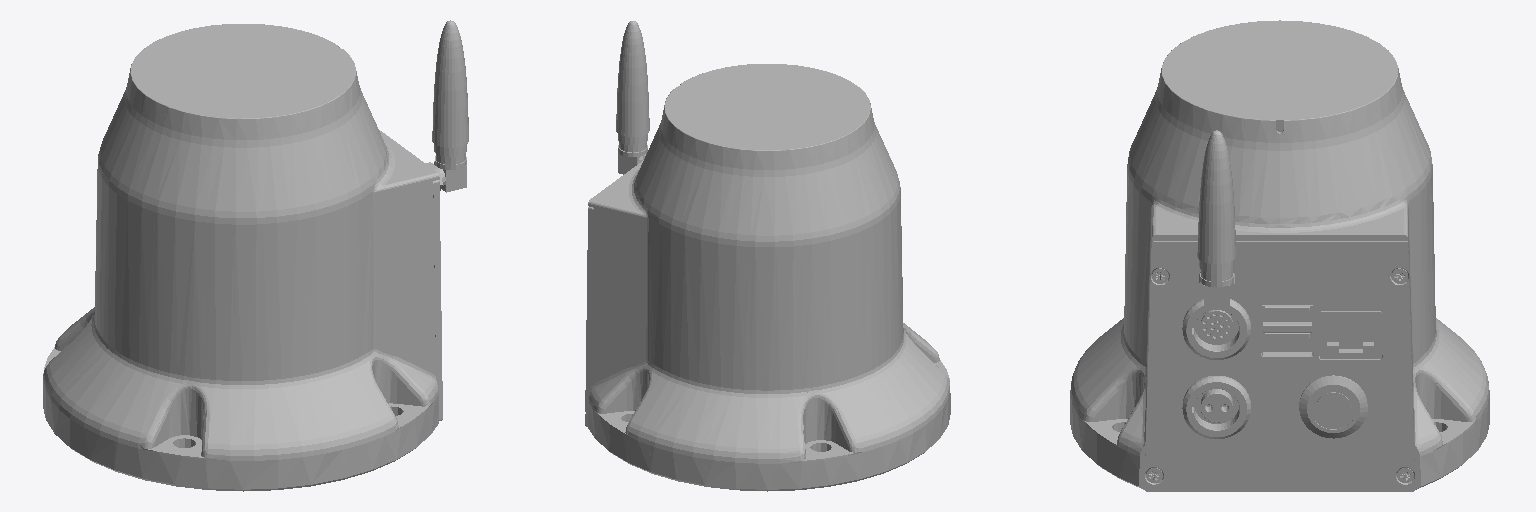
URDF robot description (RM75-6F):
<?xml version="1.0" encoding="utf-8"?>
<!-- This URDF was automatically created by SolidWorks to URDF Exporter! Originally created by [author] ([email redacted]) 
     Commit Version: 1.6.0-1-g15f4949  Build Version: 1.6.7594.29634
     For more information, please see http://wiki.ros.org/sw_urdf_exporter -->
<robot
  name="RM75-6F">
  <link
    name="base_link">
    <inertial>
      <origin
        xyz="-0.000498402948737627 -5.19350130879295E-05 0.0600202841401173"
        rpy="0 0 0" />
      <mass
        value="0.838885280844642" />
      <inertia
        ixx="0.00172321229512273"
        ixy="3.09076921222708E-06"
        ixz="-3.79221267118485E-05"
        iyy="0.00170514762450234"
        iyz="1.38793623479001E-06"
        izz="0.00090158903044651" />
    </inertial>
    <visual>
      <origin
        xyz="0 0 0"
        rpy="0 0 0" />
      <geometry>
        <mesh
          filename="package://rm_description/meshes/RM75_Test/base_link.STL" />
      </geometry>
      <material
        name="">
        <color
          rgba="0.752941176470588 0.752941176470588 0.752941176470588 1" />
      </material>
    </visual>
    <collision>
      <origin
        xyz="0 0 0"
        rpy="0 0 0" />
      <geometry>
        <mesh
          filename="package://rm_description/meshes/RM75_Test/base_link.STL" />
      </geometry>
    </collision>
  </link>
  <link
    name="Link_1">
    <inertial>
      <origin
        xyz="-2.05546069214312E-07 0.0211077047188954 -0.0251861970792274"
        rpy="0 0 0" />
      <mass
        value="0.593542243994357" />
      <inertia
        ixx="0.00126611498055767"
        ixy="-5.09885204907223E-09"
        ixz="-6.36116302372432E-09"
        iyy="0.00118165919048932"
        iyz="-0.000211204511668188"
        izz="0.000561320297380402" />
    </inertial>
    <visual>
      <origin
        xyz="0 0 0"
        rpy="0 0 0" />
      <geometry>
        <mesh
          filename="package://rm_description/meshes/RM75_Test/Link_1.STL" />
      </geometry>
      <material
        name="">
        <color
          rgba="0.752941176470588 0.752941176470588 0.752941176470588 1" />
      </material>
    </visual>
    <collision>
      <origin
        xyz="0 0 0"
        rpy="0 0 0" />
      <geometry>
        <mesh
          filename="package://rm_description/meshes/RM75_Test/Link_1.STL" />
      </geometry>
    </collision>
  </link>
  <joint
    name="joint_1"
    type="revolute">
    <origin
      xyz="0 0 0.2405"
      rpy="0 0 0" />
    <parent
      link="base_link" />
    <child
      link="Link_1" />
    <axis
      xyz="0 0 -1" />
    <limit
      lower="-3.105"
      upper="3.105"
      effort="60"
      velocity="3.14" />
  </joint>
  <link
    name="Link_2">
    <inertial>
      <origin
        xyz="0.0761298838635414 8.13412421487738E-08 0.0110777211746168"
        rpy="0 0 0" />
      <mass
        value="0.432849544766671" />
      <inertia
        ixx="0.000317471563497456"
        ixy="-1.26467480084691E-09"
        ixz="0.000279001865925355"
        iyy="0.00125837650082301"
        iyz="6.18873935094668E-09"
        izz="0.00122244754668097" />
    </inertial>
    <visual>
      <origin
        xyz="0 0 0"
        rpy="0 0 0" />
      <geometry>
        <mesh
          filename="package://rm_description/meshes/RM75_Test/Link_2.STL" />
      </geometry>
      <material
        name="">
        <color
          rgba="0.752941176470588 0.752941176470588 0.752941176470588 1" />
      </material>
    </visual>
    <collision>
      <origin
        xyz="0 0 0"
        rpy="0 0 0" />
      <geometry>
        <mesh
          filename="package://rm_description/meshes/RM75_Test/Link_2.STL" />
      </geometry>
    </collision>
  </link>
  <joint
    name="joint_2"
    type="revolute">
    <origin
      xyz="0 0 0"
      rpy="1.5708 -1.5708 0" />
    <parent
      link="Link_1" />
    <child
      link="Link_2" />
    <axis
      xyz="0 0 1" />
    <limit
      lower="-2.269"
      upper="2.269"
      effort="60"
      velocity="3.14" />
  </joint>
  <link
    name="Link_3">
    <inertial>
      <origin
        xyz="-9.34564886745072E-07 0.0235439812552188 -0.0273474841772198"
        rpy="0 0 0" />
      <mass
        value="0.431326296657269" />
      <inertia
        ixx="0.000794346293776048"
        ixy="-2.46594666817218E-09"
        ixz="1.38182845522538E-08"
        iyy="0.000730368377150695"
        iyz="-0.00014262661201261"
        izz="0.000315064686122022" />
    </inertial>
    <visual>
      <origin
        xyz="0 0 0"
        rpy="0 0 0" />
      <geometry>
        <mesh
          filename="package://rm_description/meshes/RM75_Test/Link_3.STL" />
      </geometry>
      <material
        name="">
        <color
          rgba="0.752941176470588 0.752941176470588 0.752941176470588 1" />
      </material>
    </visual>
    <collision>
      <origin
        xyz="0 0 0"
        rpy="0 0 0" />
      <geometry>
        <mesh
          filename="package://rm_description/meshes/RM75_Test/Link_3.STL" />
      </geometry>
    </collision>
  </link>
  <joint
    name="joint_3"
    type="revolute">
    <origin
      xyz="0.256 0 0"
      rpy="-1.5708 0 -1.5708" />
    <parent
      link="Link_2" />
    <child
      link="Link_3" />
    <axis
      xyz="0 0 -1" />
    <limit
      lower="-3.105"
      upper="3.105"
      effort="30"
      velocity="3.14" />
  </joint>
  <link
    name="Link_4">
    <inertial>
      <origin
        xyz="4.51888977543724E-06 -0.0595928813069476 0.010569042108418"
        rpy="0 0 0" />
      <mass
        value="0.289643824188822" />
      <inertia
        ixx="0.000637363594056505"
        ixy="-5.7485480442054E-08"
        ixz="-3.30883600819094E-08"
        iyy="0.000156488204970793"
        iyz="-0.000144608155464803"
        izz="0.000614175002842777" />
    </inertial>
    <visual>
      <origin
        xyz="0 0 0"
        rpy="0 0 0" />
      <geometry>
        <mesh
          filename="package://rm_description/meshes/RM75_Test/Link_4.STL" />
      </geometry>
      <material
        name="">
        <color
          rgba="0.752941176470588 0.752941176470588 0.752941176470588 1" />
      </material>
    </visual>
    <collision>
      <origin
        xyz="0 0 0"
        rpy="0 0 0" />
      <geometry>
        <mesh
          filename="package://rm_description/meshes/RM75_Test/Link_4.STL" />
      </geometry>
    </collision>
  </link>
  <joint
    name="joint_4"
    type="revolute">
    <origin
      xyz="0 0 0"
      rpy="-1.5708 0 -3.1416" />
    <parent
      link="Link_3" />
    <child
      link="Link_4" />
    <axis
      xyz="0 0 1" />
    <limit
      lower="-2.356"
      upper="2.356"
      effort="30"
      velocity="3.14" />
  </joint>
  <link
    name="Link_5">
    <inertial>
      <origin
        xyz="1.32071622473073E-06 -0.0180437560522369 -0.0215381587841798"
        rpy="0 0 0" />
      <mass
        value="0.239430992940448" />
      <inertia
        ixx="0.00028594979957681"
        ixy="-2.14337423072125E-09"
        ixz="1.40294693820937E-09"
        iyy="0.000262735545580892"
        iyz="4.4240809689715E-05"
        izz="0.000119899058385996" />
    </inertial>
    <visual>
      <origin
        xyz="0 0 0"
        rpy="0 0 0" />
      <geometry>
        <mesh
          filename="package://rm_description/meshes/RM75_Test/Link_5.STL" />
      </geometry>
      <material
        name="">
        <color
          rgba="0.752941176470588 0.752941176470588 0.752941176470588 1" />
      </material>
    </visual>
    <collision>
      <origin
        xyz="0 0 0"
        rpy="0 0 0" />
      <geometry>
        <mesh
          filename="package://rm_description/meshes/RM75_Test/Link_5.STL" />
      </geometry>
    </collision>
  </link>
  <joint
    name="joint_5"
    type="revolute">
    <origin
      xyz="0 -0.21 0"
      rpy="1.5708 0 0" />
    <parent
      link="Link_4" />
    <child
      link="Link_5" />
    <axis
      xyz="0 0 -1" />
    <limit
      lower="-3.105"
      upper="3.105"
      effort="10"
      velocity="3.14" />
  </joint>
  <link
    name="Link_6">
    <inertial>
      <origin
        xyz="4.23948957018817E-06 -0.0593817487603215 0.00736779587750847"
        rpy="0 0 0" />
      <mass
        value="0.21879527056675" />
      <inertia
        ixx="0.00035053124249399"
        ixy="-3.1129705163603E-08"
        ixz="-1.70875238293734E-08"
        iyy="0.00010492541026997"
        iyz="-7.82406705228082E-05"
        izz="0.000334471302428861" />
    </inertial>
    <visual>
      <origin
        xyz="0 0 0"
        rpy="0 0 0" />
      <geometry>
        <mesh
          filename="package://rm_description/meshes/RM75_Test/Link_6.STL" />
      </geometry>
      <material
        name="">
        <color
          rgba="0.752941176470588 0.752941176470588 0.752941176470588 1" />
      </material>
    </visual>
    <collision>
      <origin
        xyz="0 0 0"
        rpy="0 0 0" />
      <geometry>
        <mesh
          filename="package://rm_description/meshes/RM75_Test/Link_6.STL" />
      </geometry>
    </collision>
  </link>
  <joint
    name="joint_6"
    type="revolute">
    <origin
      xyz="0 0 0"
      rpy="-1.5708 0 0" />
    <parent
      link="Link_5" />
    <child
      link="Link_6" />
    <axis
      xyz="0 0 1" />
    <limit
      lower="-2.234"
      upper="2.234"
      effort="10"
      velocity="3.14" />
  </joint>
  <link
    name="Link7">
    <inertial>
      <origin
        xyz="0.00013855998817792 -0.00574537419214985 -0.535986173378068"
        rpy="0 0 0" />
      <mass
        value="3.04449097310784" />
      <inertia
        ixx="0.17081032825412"
        ixy="5.38227954656055E-07"
        ixz="0.000151207463266663"
        iyy="0.169967421488281"
        iyz="0.0010577717307003"
        izz="0.0030554606628762" />
    </inertial>
    <visual>
      <origin
        xyz="0 0 0"
        rpy="0 0 0" />
      <geometry>
        <mesh
          filename="package://rm_description/meshes/RM75_Test/Link7.STL" />
      </geometry>
      <material
        name="">
        <color
          rgba="0.792156862745098 0.819607843137255 0.933333333333333 1" />
      </material>
    </visual>
    <collision>
      <origin
        xyz="0 0 0"
        rpy="0 0 0" />
      <geometry>
        <mesh
          filename="package://rm_description/meshes/RM75_Test/Link7.STL" />
      </geometry>
    </collision>
  </link>
  <joint
    name="joint7"
    type="revolute">
    <origin
      xyz="0 -0.1613 0"
      rpy="1.5708 0 0" />
    <parent
      link="Link_6" />
    <child
      link="Link7" />
    <axis
      xyz="0 0 1" />
    <limit
      lower="-6.28"
      upper="6.28"
      effort="10"
      velocity="3.14" />
  </joint>
</robot>

--- What the picture shows (computed from the rendered views, not written in the file) ---
3 views of the same robot in one strip: view 1: azimuth 30°, elevation 25°; view 2: azimuth 150°, elevation 25°; view 3: azimuth 270°, elevation 25° (orthographic).
Model RM75-6F with 8 links and 7 joints (7 revolute), rooted at base_link, posed every joint at zero.
Links seen in each view (by area): view 1: base_link; view 2: base_link; view 3: base_link.
Boxes of the visible links, x1,y1,x2,y2 form: base_link: (43, 20, 468, 491); base_link: (585, 21, 950, 491); base_link: (1070, 20, 1489, 491).
Size in the robot's own frame: 0.1162 by 0.11 by 0.1107 metres.
1 mesh visuals loaded from 8 distinct referenced files (1 binary STL); not drawn: 7 (reference not matched to a file when rendering).